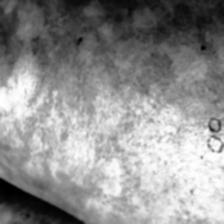Potentially Malignant Skin Tumors: (41, 69, 191, 188), (29, 0, 224, 54), (202, 161, 224, 224), (202, 72, 224, 110)
